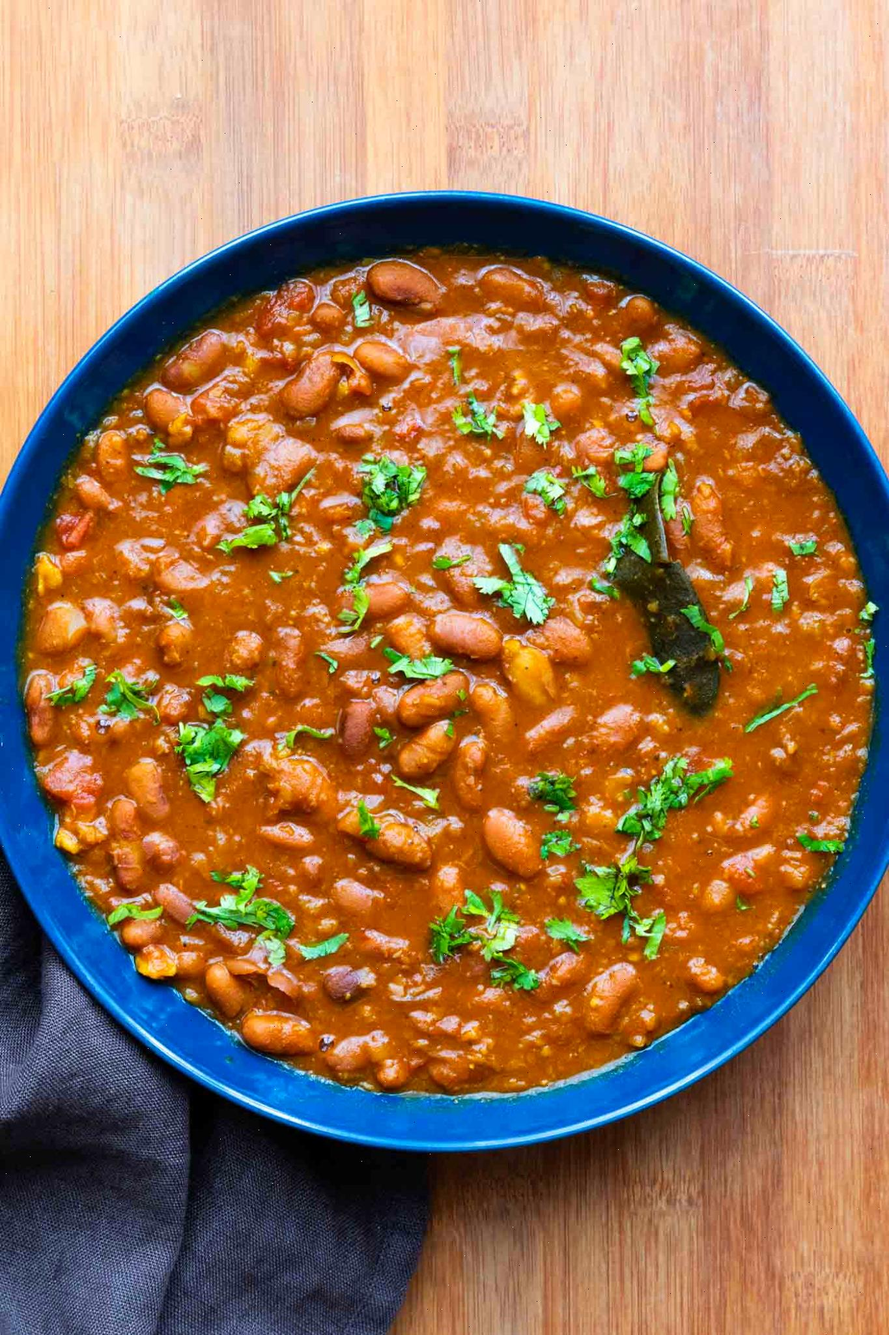rajma: (38, 248, 861, 1122)
